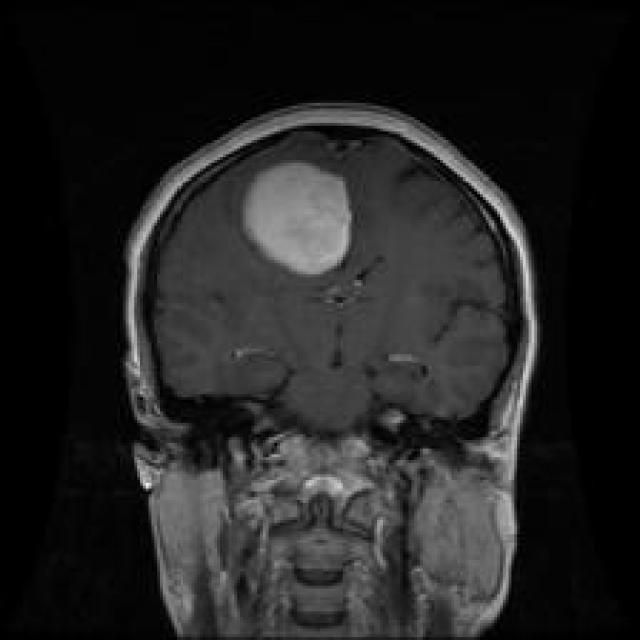meningioma_tumor: (233, 152, 361, 286)
